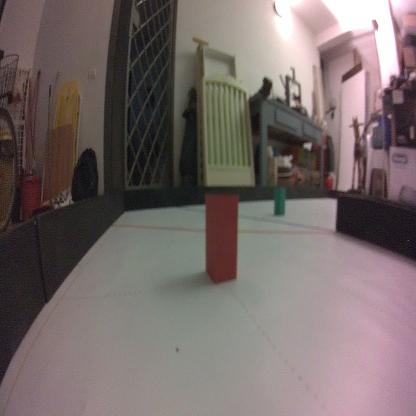green: (273, 184, 286, 217)
red: (203, 188, 241, 291)
